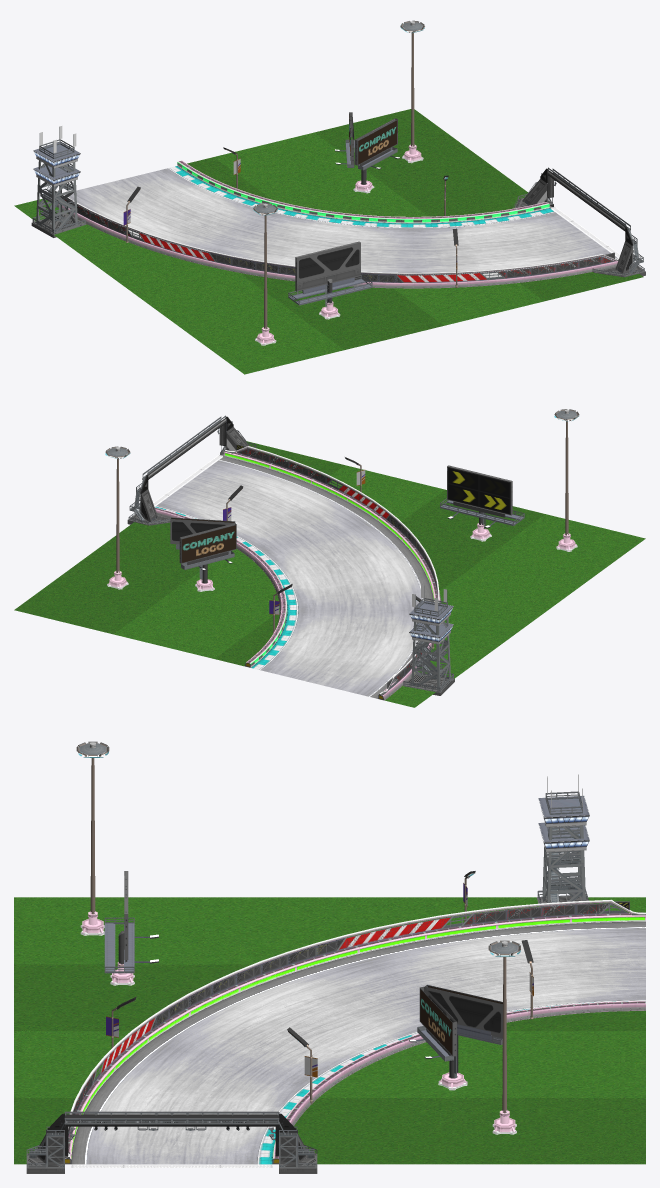
File: T2 - Checkpoint.fbx
The picture shows the model from 3 angles, top to bottom: view 1: azimuth 30°, elevation 25°; view 2: azimuth 150°, elevation 25°; view 3: azimuth 270°, elevation 25°; orthographic projection. The views are drawn at different scales.
Visible parts, largest first — view 1: standard_ground_grass1, drift_road, wall_drift1, standard_arrow_left, prop_billboard_right, pro_stewards_tower, pro_billboard_tripple_ground, gate, bridge, tower_attachment_slanted, pro_floodlight_overhead, pro_floodlight_overhead_1; view 2: standard_ground_grass1, drift_road, wall_drift1, prop_billboard_right, pro_stewards_tower, pro_billboard_tripple_ground, standard_arrow_left, gate, bridge, pro_floodlight_overhead_1, pro_floodlight_overhead, tower_attachment_slanted; view 3: standard_ground_grass1, drift_road, wall_drift1, standard_arrow_left, pro_billboard_tripple_ground, pro_stewards_tower, bridge, gate, prop_billboard_right, pro_floodlight_overhead, pro_floodlight_overhead_1, line.
Boxes of the visible parts, bbox=[...] form: standard_ground_grass1: bbox=[14, 109, 643, 374]; drift_road: bbox=[62, 166, 617, 277]; wall_drift1: bbox=[47, 160, 617, 288]; standard_arrow_left: bbox=[55, 191, 619, 282]; prop_billboard_right: bbox=[288, 241, 372, 307]; pro_stewards_tower: bbox=[33, 126, 80, 232]; pro_billboard_tripple_ground: bbox=[335, 112, 400, 184]; gate: bbox=[513, 168, 645, 277]; bridge: bbox=[547, 167, 632, 239]; tower_attachment_slanted: bbox=[31, 208, 86, 237]; pro_floodlight_overhead: bbox=[400, 20, 424, 146]; pro_floodlight_overhead_1: bbox=[253, 203, 277, 329]; standard_ground_grass1: bbox=[14, 441, 645, 707]; drift_road: bbox=[155, 456, 433, 698]; wall_drift1: bbox=[154, 451, 441, 700]; prop_billboard_right: bbox=[440, 465, 524, 528]; pro_stewards_tower: bbox=[409, 585, 453, 690]; pro_billboard_tripple_ground: bbox=[170, 517, 236, 583]; standard_arrow_left: bbox=[224, 444, 439, 695]; gate: bbox=[127, 416, 257, 525]; bridge: bbox=[141, 415, 226, 487]; pro_floodlight_overhead_1: bbox=[554, 409, 579, 535]; pro_floodlight_overhead: bbox=[105, 446, 130, 572]; tower_attachment_slanted: bbox=[403, 667, 454, 695]; standard_ground_grass1: bbox=[14, 897, 645, 1164]; drift_road: bbox=[71, 921, 645, 1164]; wall_drift1: bbox=[65, 913, 645, 1164]; standard_arrow_left: bbox=[65, 899, 645, 1158]; pro_billboard_tripple_ground: bbox=[409, 984, 502, 1078]; pro_stewards_tower: bbox=[538, 774, 589, 906]; bridge: bbox=[59, 1111, 284, 1134]; gate: bbox=[26, 1113, 317, 1173]; prop_billboard_right: bbox=[104, 871, 158, 973]; pro_floodlight_overhead: bbox=[488, 940, 520, 1113]; pro_floodlight_overhead_1: bbox=[76, 741, 109, 914]; line: bbox=[71, 1164, 272, 1167].
Size of the model in its own units: 13144 by 4295 by 12800.
